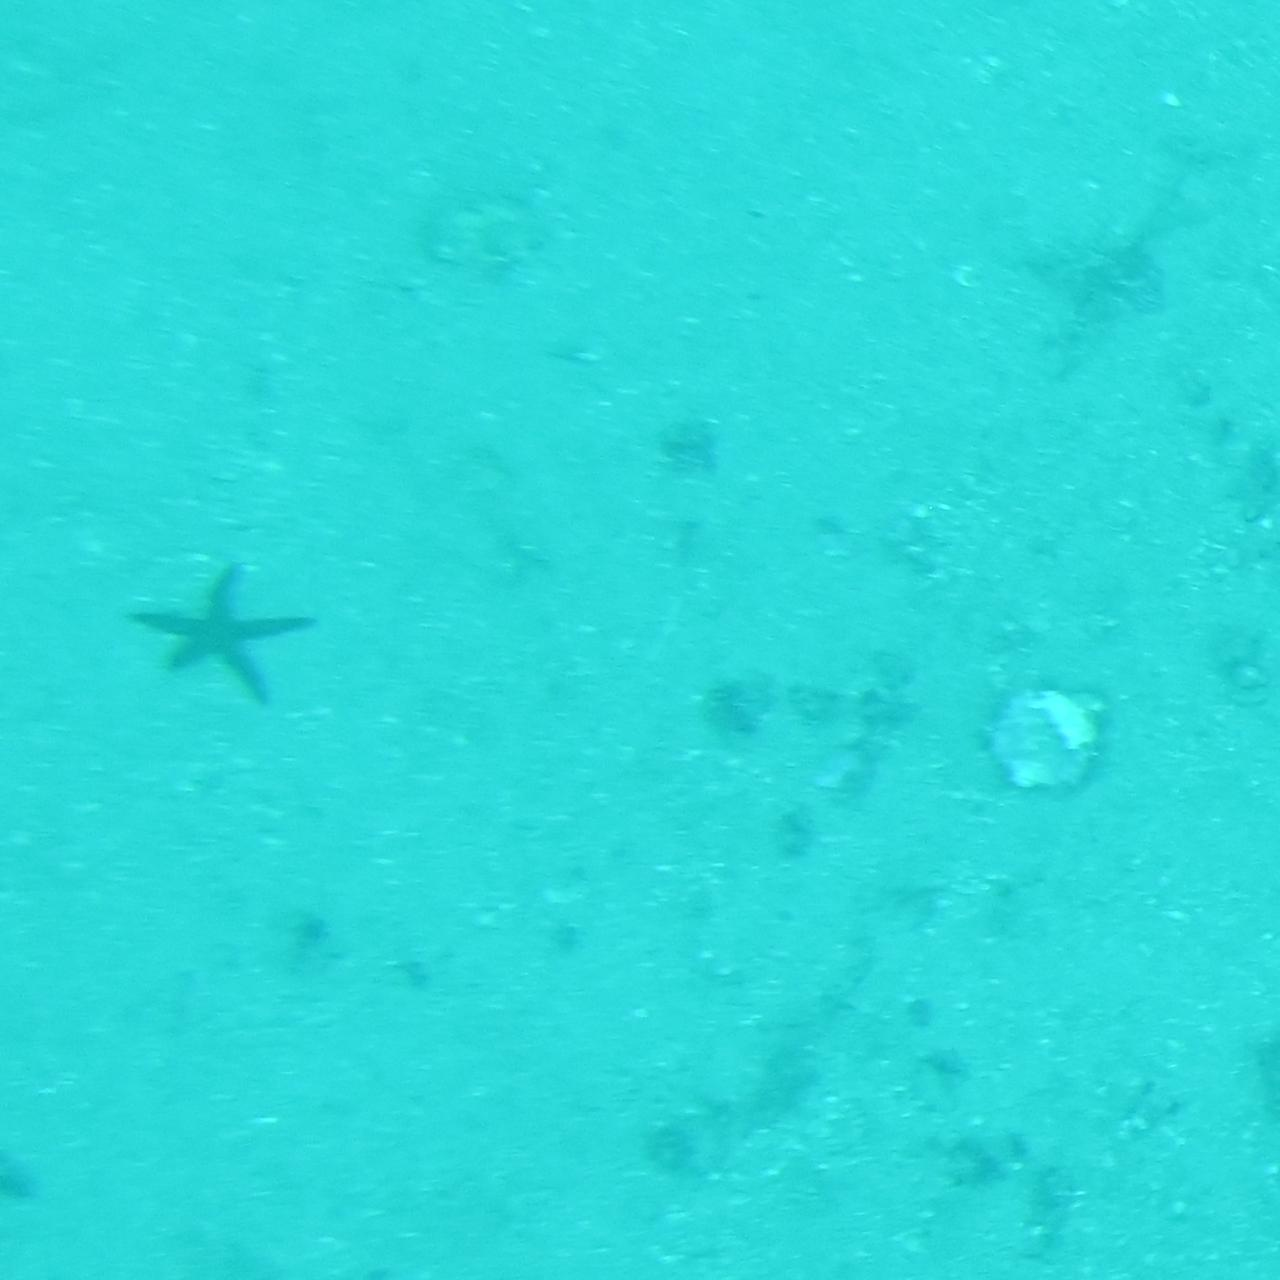Asteroidea: (128, 554, 334, 726)
